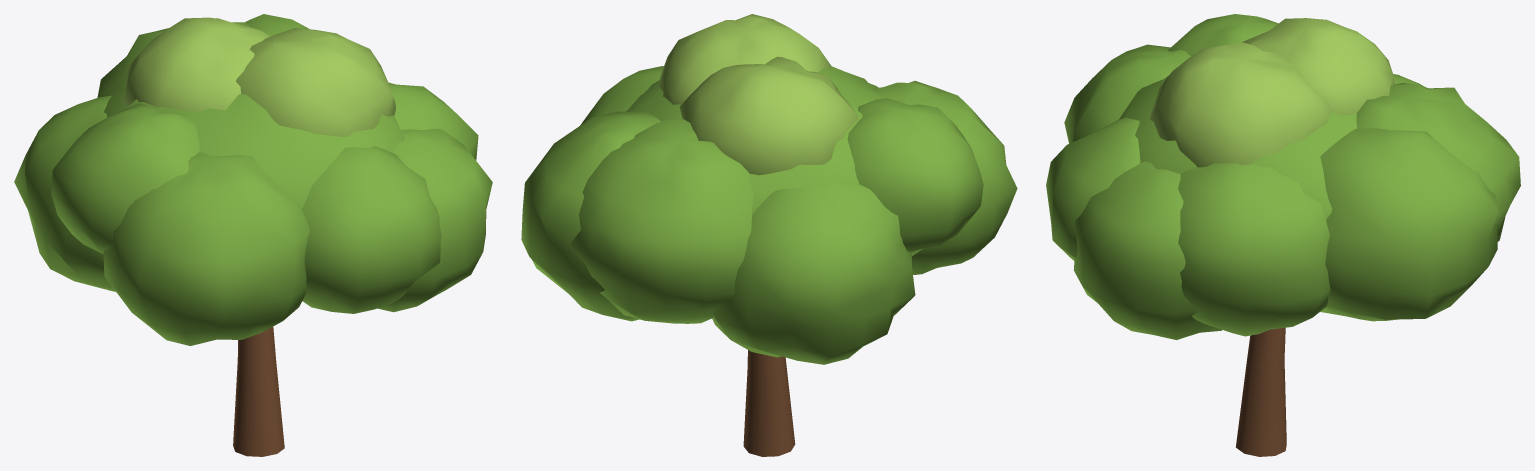
Rendered from tree_round.glb.
3 views of the same model, side by side, from view 1: azimuth 30°, elevation 25°; view 2: azimuth 150°, elevation 25°; view 3: azimuth 270°, elevation 25° (orthographic).
Parts seen in each view (by area): view 1: tree_round; view 2: tree_round; view 3: tree_round.
Boxes of the visible parts, x1,y1,x2,y2 form: tree_round: (14, 14, 492, 456); tree_round: (521, 14, 1017, 456); tree_round: (1046, 14, 1520, 456).
Size of the model in its own units: 3.01 by 3.01 by 3.17.
